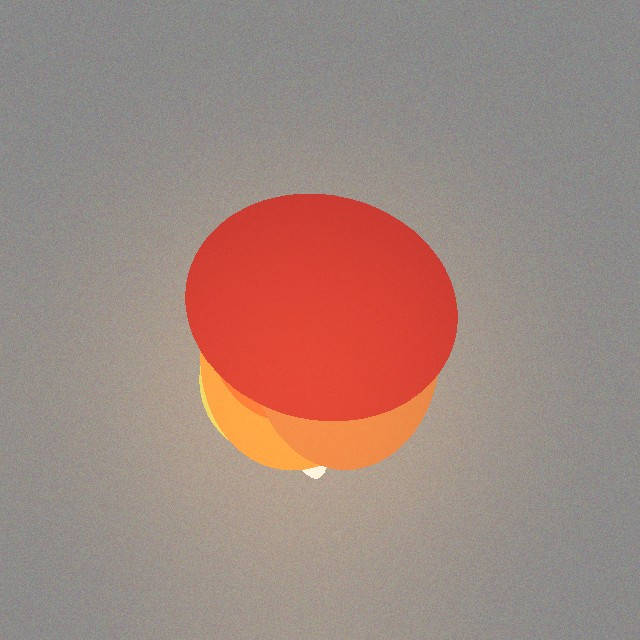fire: (238, 259, 364, 523)
